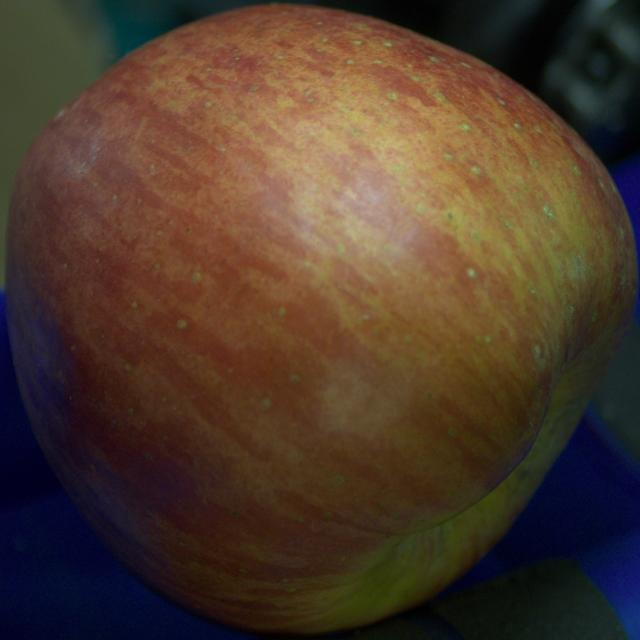apple: (7, 6, 638, 633)
